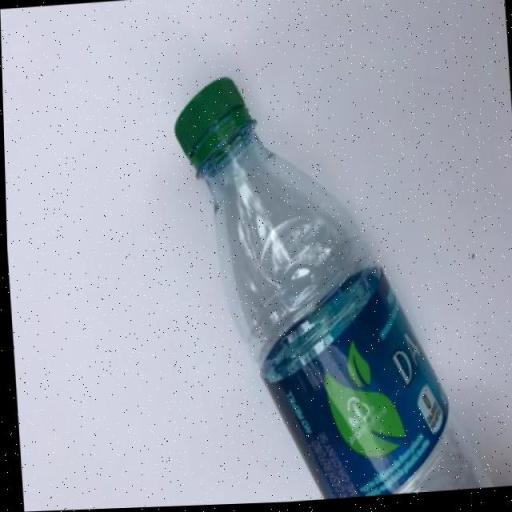plastic: (166, 59, 490, 507)
